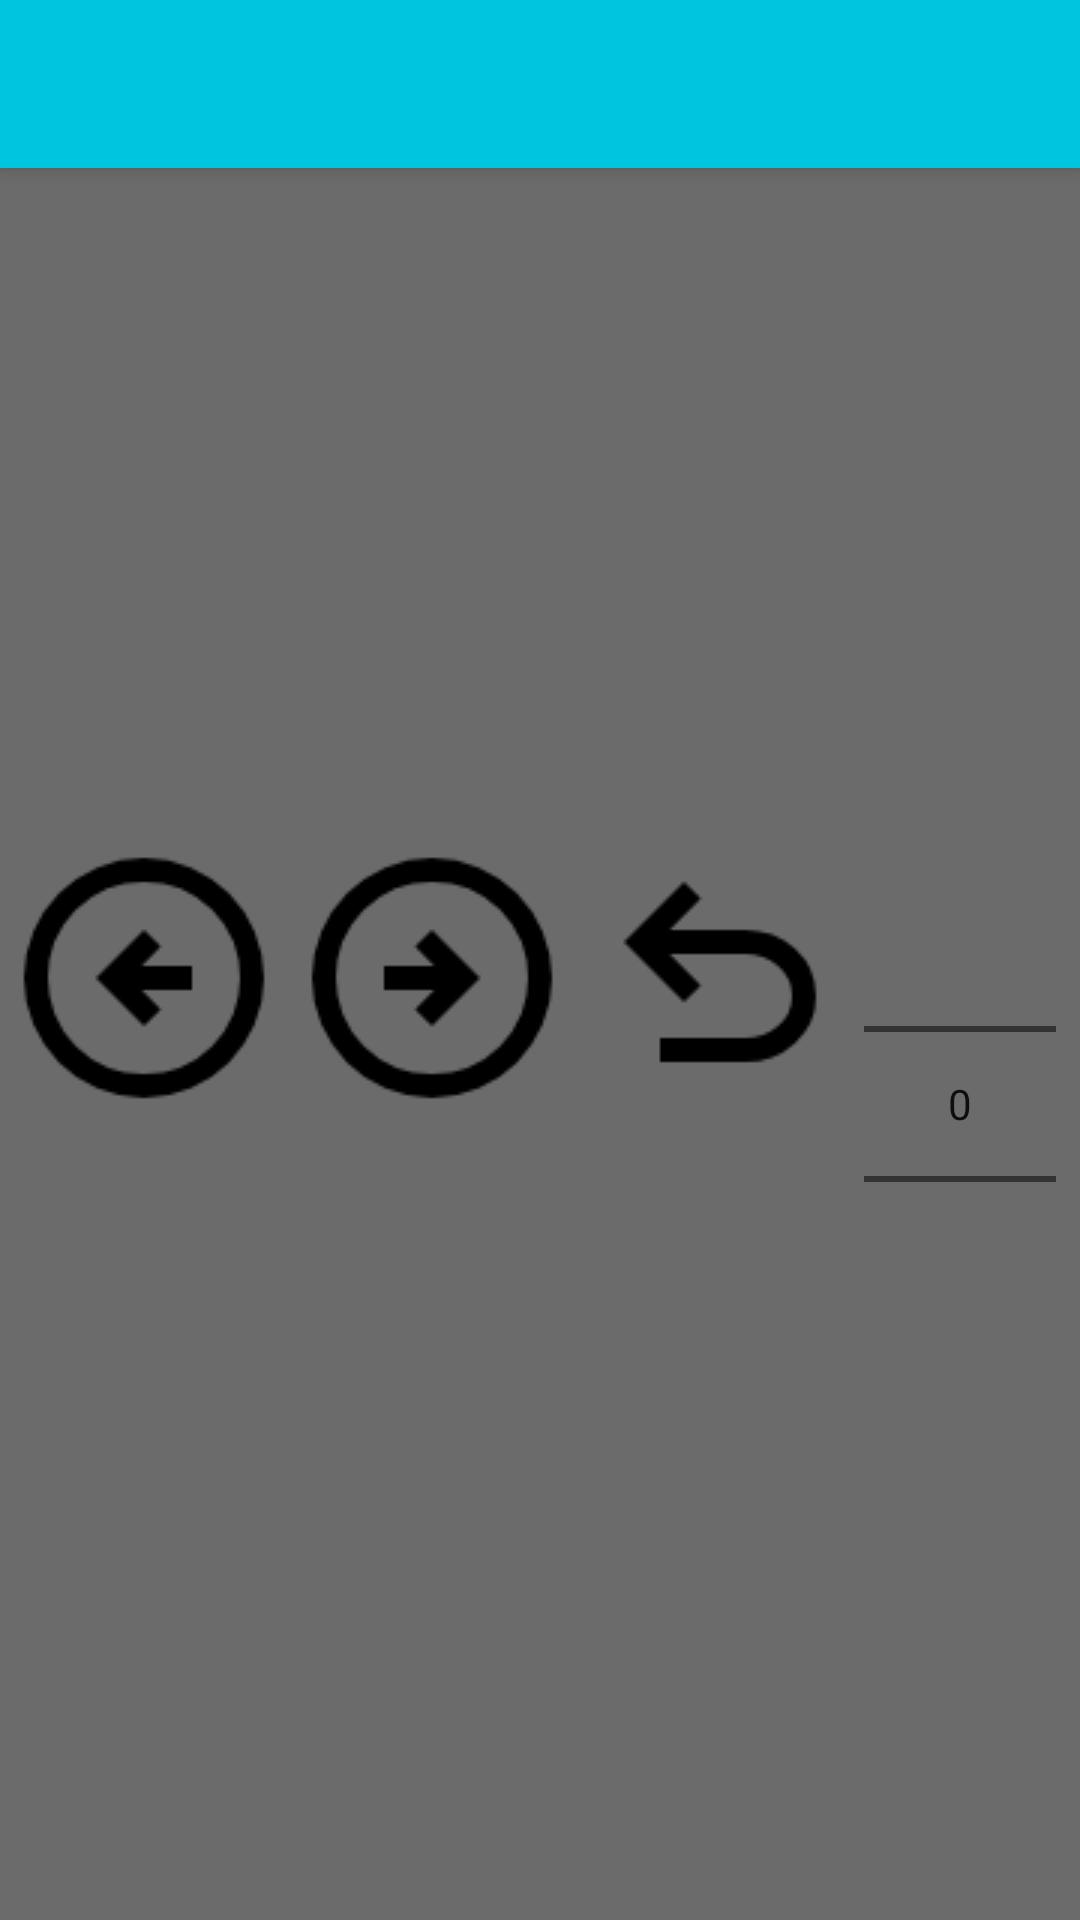

Point at icon controls on the screen. Image size 1080 × 1920, points as [x,y].
Rotates the subgrid to the left: [144,978]
Rotates the subgrid to the right: [432,978]
Undo the last move: [720,972]
